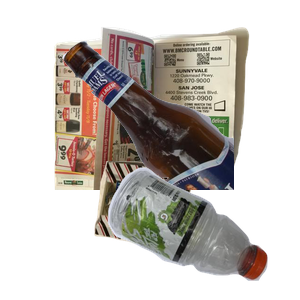glass: (60, 38, 300, 218)
paper: (51, 24, 291, 204)
plastic: (105, 165, 300, 300)
trash: (92, 158, 277, 300)
